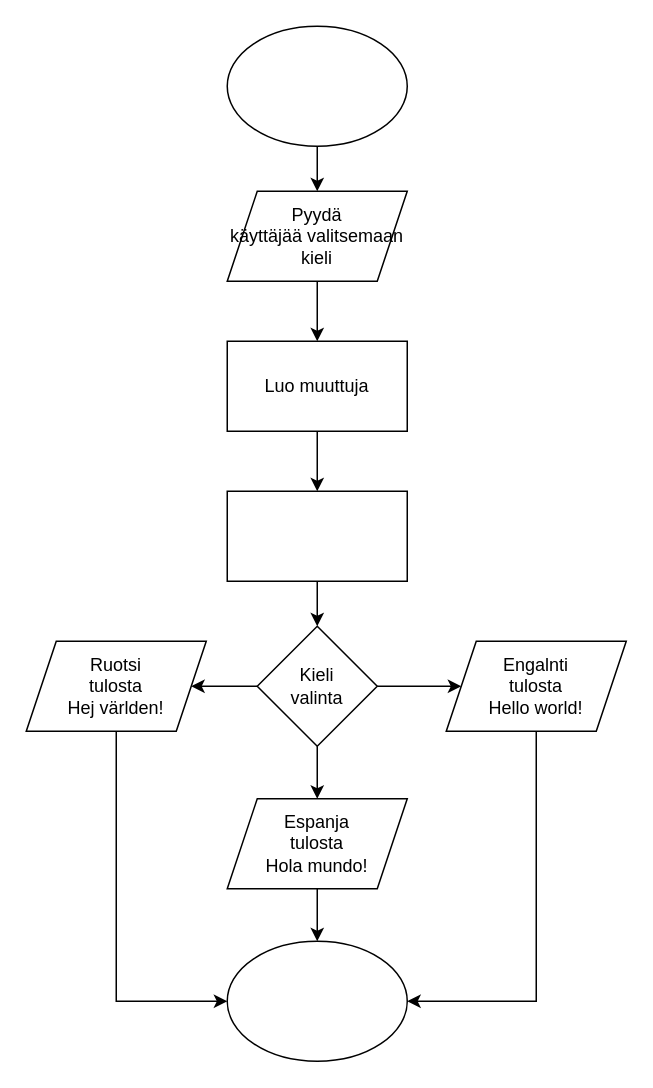
Image size: 653x1088. Some labels were removed from this diagram. The shapes that lost their labels are listed below. From the top down, each one's centre as x and y in pixels, then its label:
point 316,85: Aloitus HTML-sivu
point 316,535: Lue muuttujaan käyttäjän valinta
point 316,1000: The End
